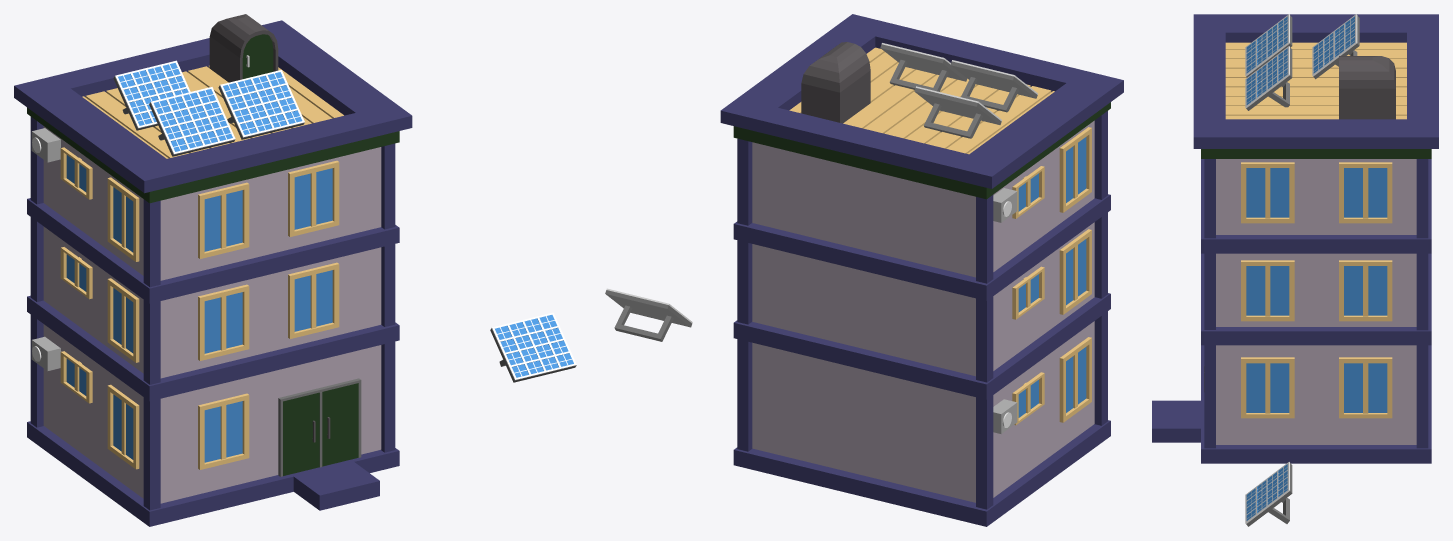
File: UY yana bitta.fbx
3 renders of one model, left to right at view 1: azimuth 30°, elevation 25°; view 2: azimuth 150°, elevation 25°; view 3: azimuth 270°, elevation 25°, orthographic. The views are drawn at different scales.
Visible parts, largest first — view 1: Cube.002, Wooden wall.004, Wooden wall.006, Wooden wall.003, Cube.032, Cube, Wooden wall, Cube.001, Plane.044, Plane, Plane.003, Plane.006 (+28 smaller); view 2: Cube.002, Wooden wall.004, Wooden wall.006, Wooden wall.001, Wooden wall, Cube.001, Cube, Cube.032, Plane, Cube.003, Plane.003, Cube.007 (+14 smaller); view 3: Cube.002, Wooden wall.002, Wooden wall.004, Wooden wall.006, Plane, Cube.001, Cube.032, Cube, Cube.003, Cube.008, Plane.032, Plane.036 (+15 smaller).
Part boxes in pixels (box(x1,y1,x2,y2)): Cube.002: box(14, 20, 412, 203); Wooden wall.004: box(30, 117, 395, 287); Wooden wall.006: box(30, 217, 395, 384); Wooden wall.003: box(143, 345, 381, 510); Cube.032: box(27, 198, 399, 303); Cube: box(27, 295, 399, 401); Wooden wall: box(30, 315, 143, 498); Cube.001: box(27, 421, 399, 526); Plane.044: box(283, 383, 358, 475); Plane: box(82, 65, 343, 158); Plane.003: box(490, 312, 576, 382); Plane.006: box(218, 70, 304, 139); Cube.002: box(720, 14, 1123, 199); Wooden wall.004: box(737, 111, 1107, 283); Wooden wall.006: box(737, 212, 1107, 382); Wooden wall.001: box(737, 339, 975, 502); Wooden wall: box(976, 321, 1094, 509); Cube.001: box(733, 420, 1110, 526); Cube: box(733, 293, 1110, 399); Cube.032: box(733, 194, 1110, 300); Plane: box(789, 47, 1054, 154); Cube.003: box(801, 42, 870, 123); Plane.003: box(605, 288, 692, 341); Cube.007: box(914, 86, 1001, 138); Cube.002: box(1193, 14, 1438, 158); Wooden wall.002: box(1204, 345, 1416, 448); Wooden wall.004: box(1204, 159, 1428, 238); Wooden wall.006: box(1204, 253, 1428, 330); Plane: box(1225, 42, 1406, 119); Cube.001: box(1201, 345, 1431, 463); Cube.032: box(1201, 159, 1431, 253); Cube: box(1201, 253, 1431, 345); Cube.003: box(1339, 56, 1395, 119); Cube.008: box(1152, 400, 1200, 442); Plane.032: box(1246, 168, 1289, 217); Plane.036: box(1246, 266, 1289, 315).
Size of the model in its own units: 4945 by 4083 by 2838.
